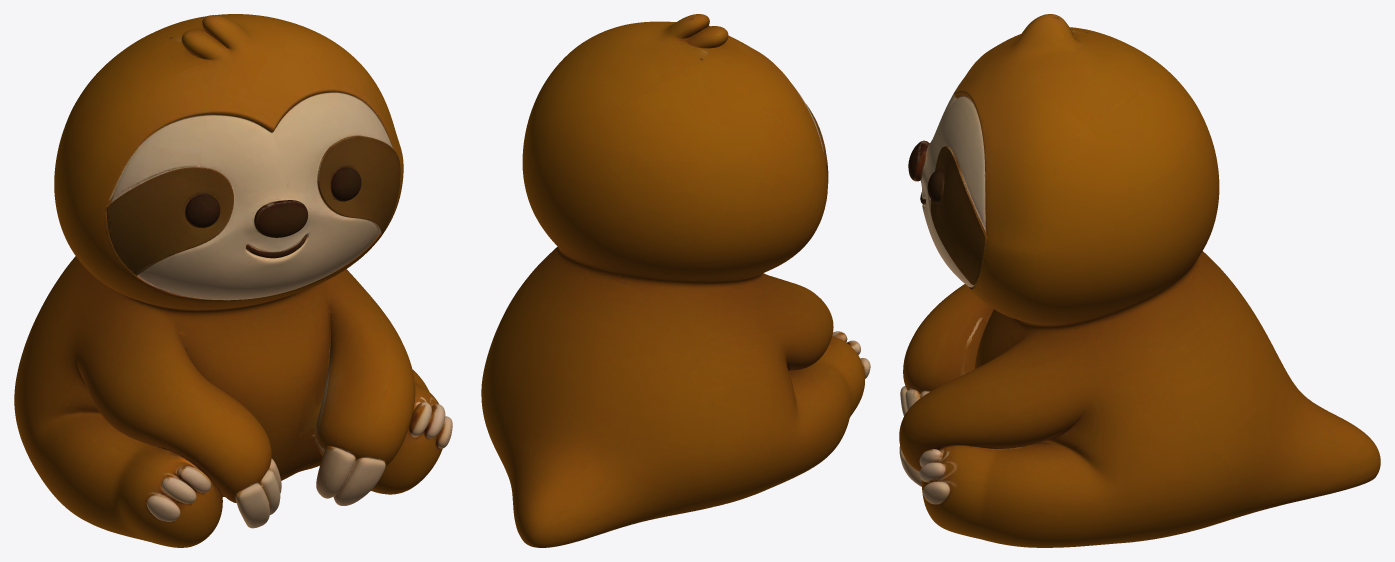
Rendered from luoi-con.glb.
3 views of the same model, side by side, from view 1: azimuth 30°, elevation 25°; view 2: azimuth 150°, elevation 25°; view 3: azimuth 270°, elevation 25° (orthographic). The views are drawn at different scales.
Parts seen in each view (by area): view 1: texture_pbr_v128; view 2: texture_pbr_v128; view 3: texture_pbr_v128.
Boxes of the visible parts, bbox=[...] form: texture_pbr_v128: bbox=[14, 14, 452, 547]; texture_pbr_v128: bbox=[481, 14, 870, 547]; texture_pbr_v128: bbox=[899, 14, 1380, 547].
Size of the model in its own units: 0.681 by 0.8714 by 0.8398.
Materials: 1 (1 with a texture image).
